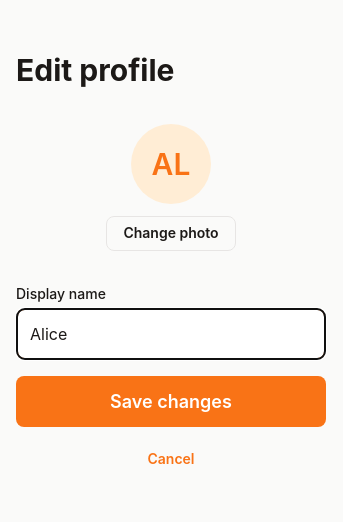
Scenario: EditProfileScreen › shows network error on API failure
This screenshot has width=343, height=522.
Replace the text in the field with test id "edit-display-name-input" with "New Name" at x=171, y=334, box x1=16 y1=308 x2=326 y2=360
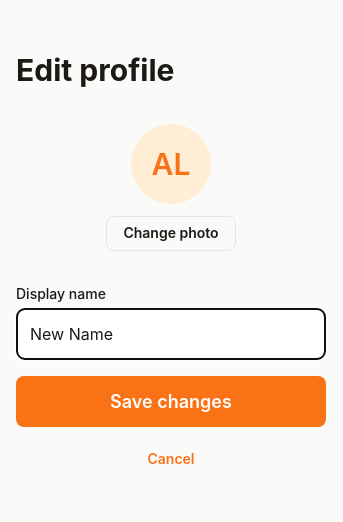
Click the button "Save changes" at x=171, y=402, box x1=16 y1=376 x2=326 y2=427
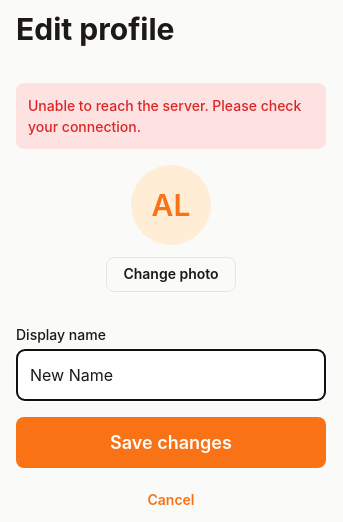
Check: the text "Unable to reach the server. Please check your connection." is shown, box x1=28 y1=95 x2=314 y2=137
